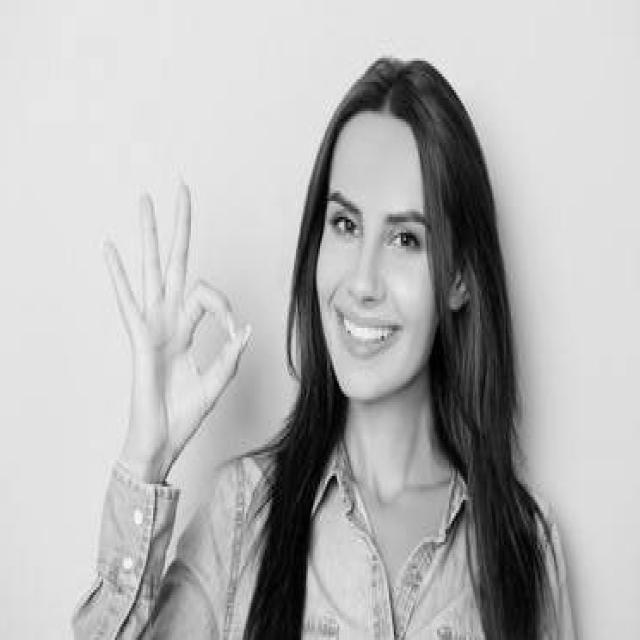perfect: (95, 166, 258, 481)
